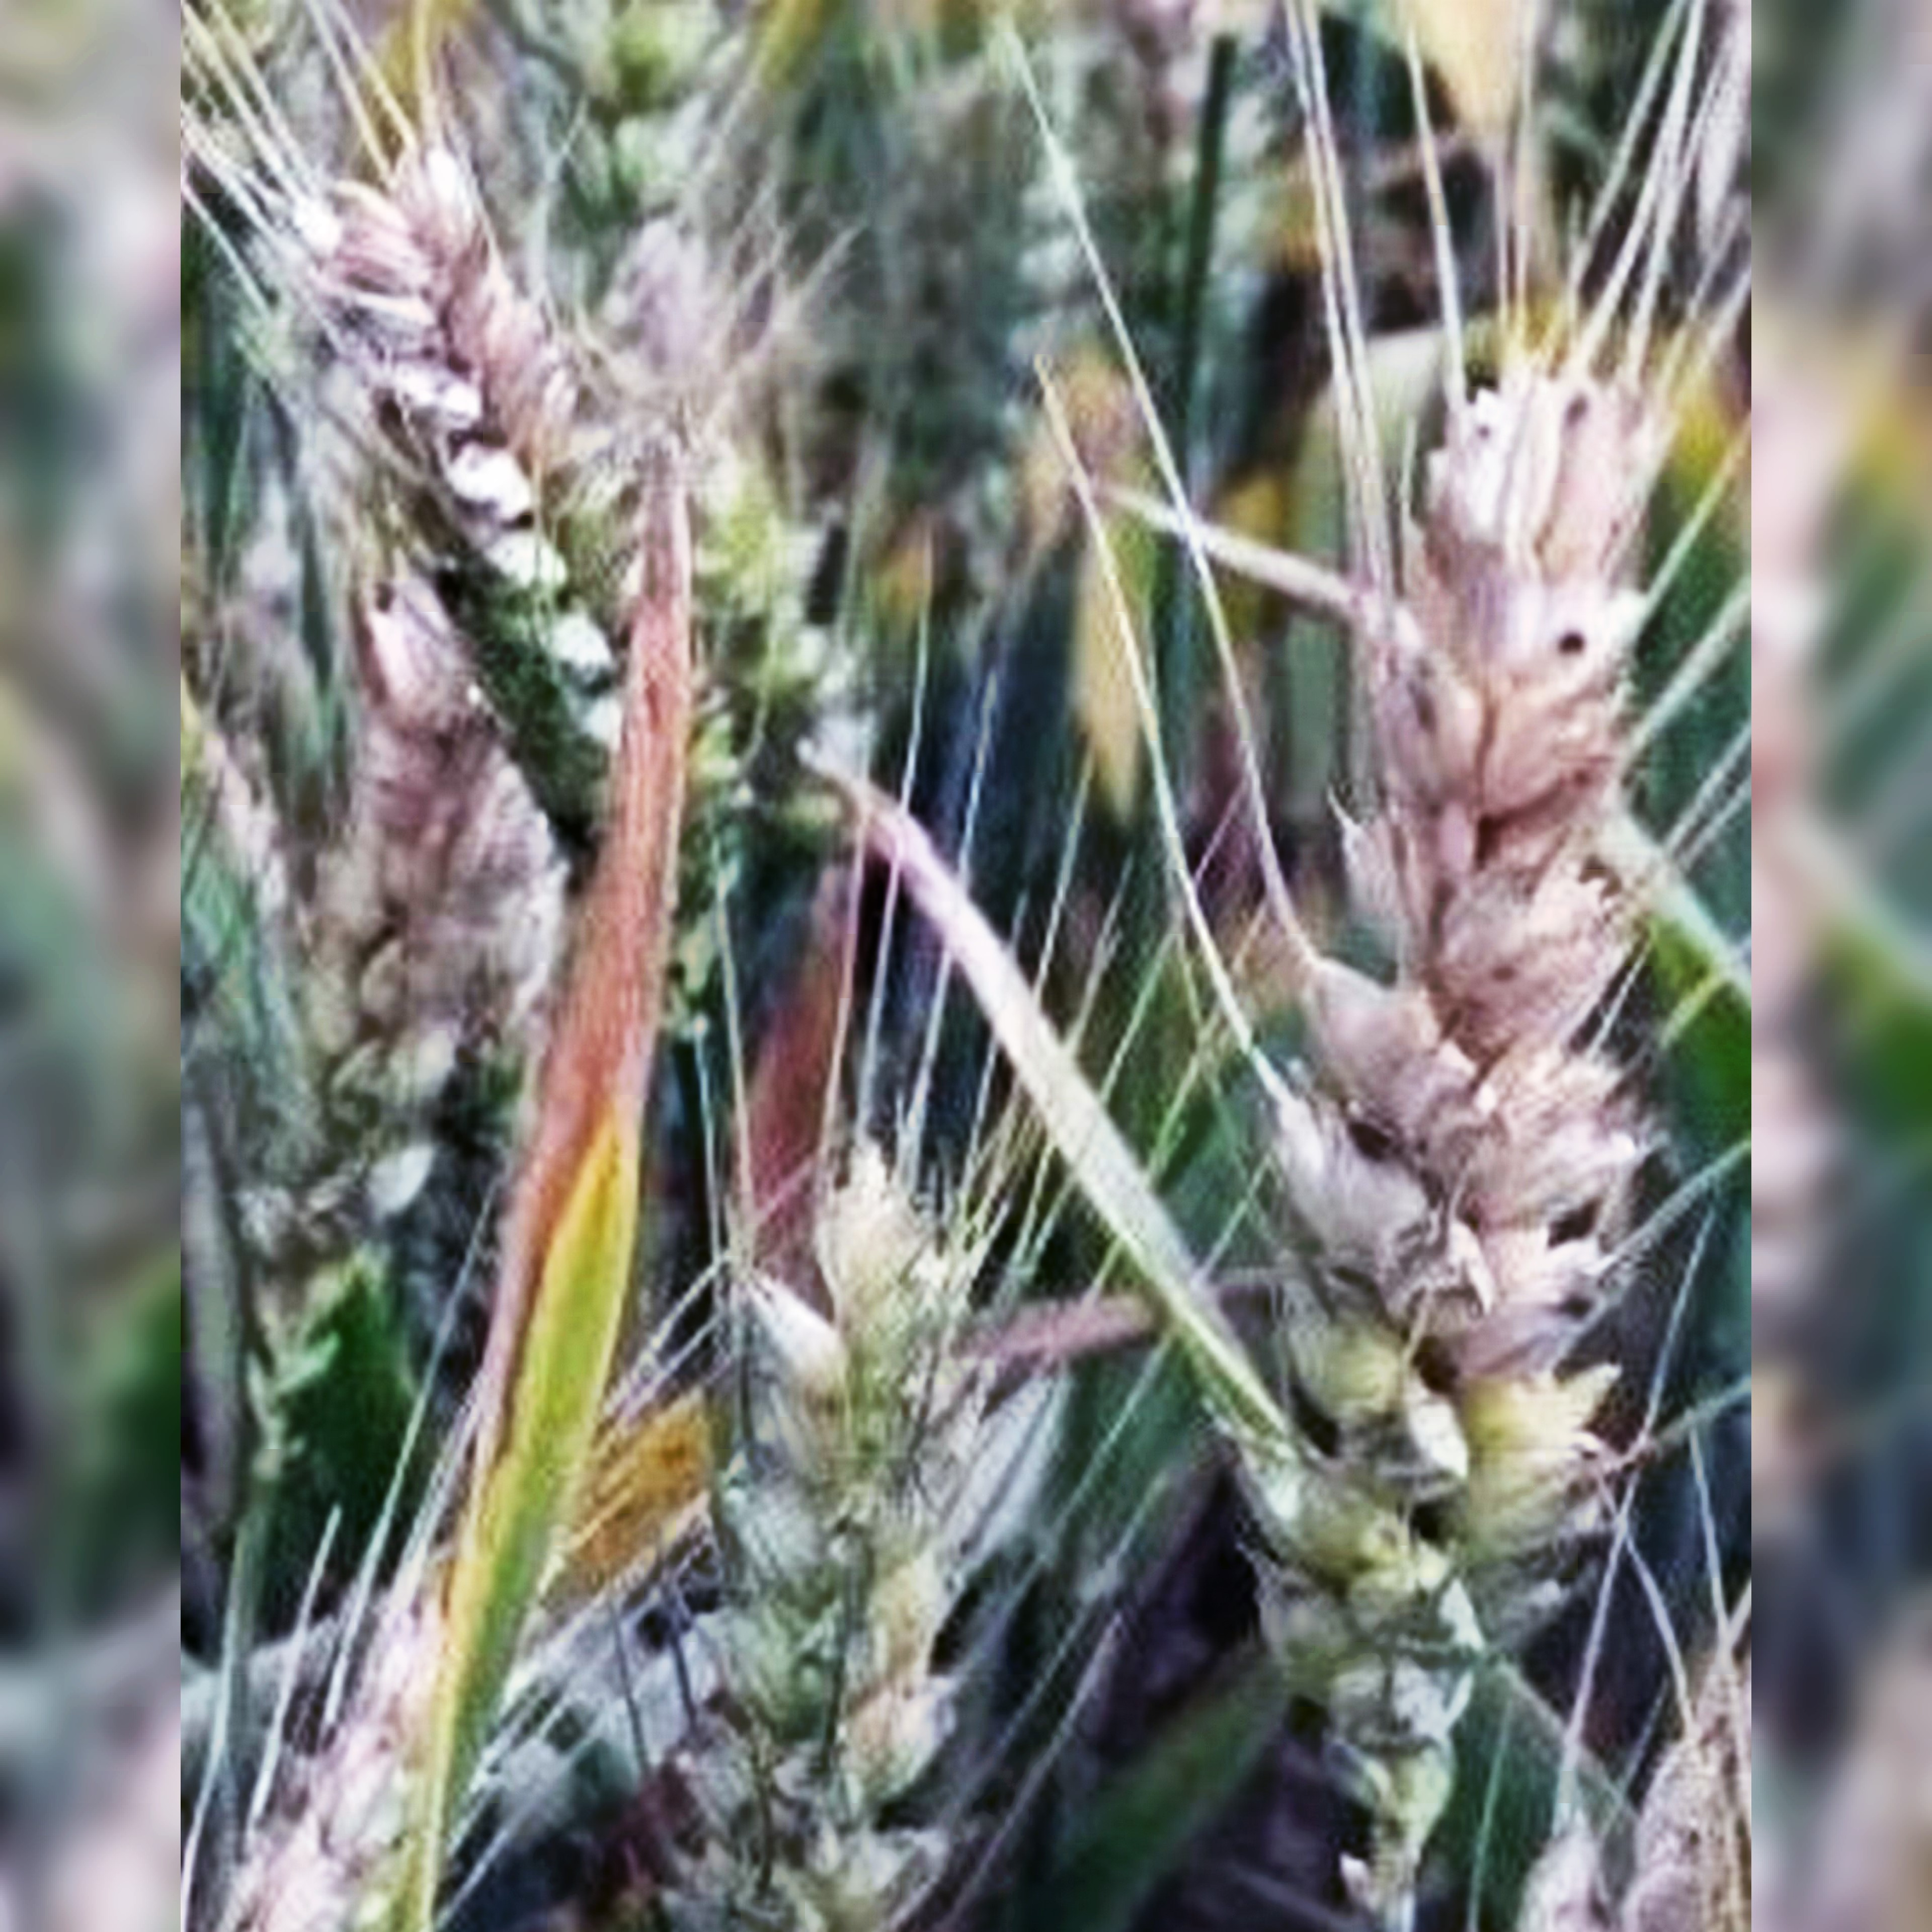Wheat scab: (1238, 301, 1677, 1868), (340, 175, 814, 927)
